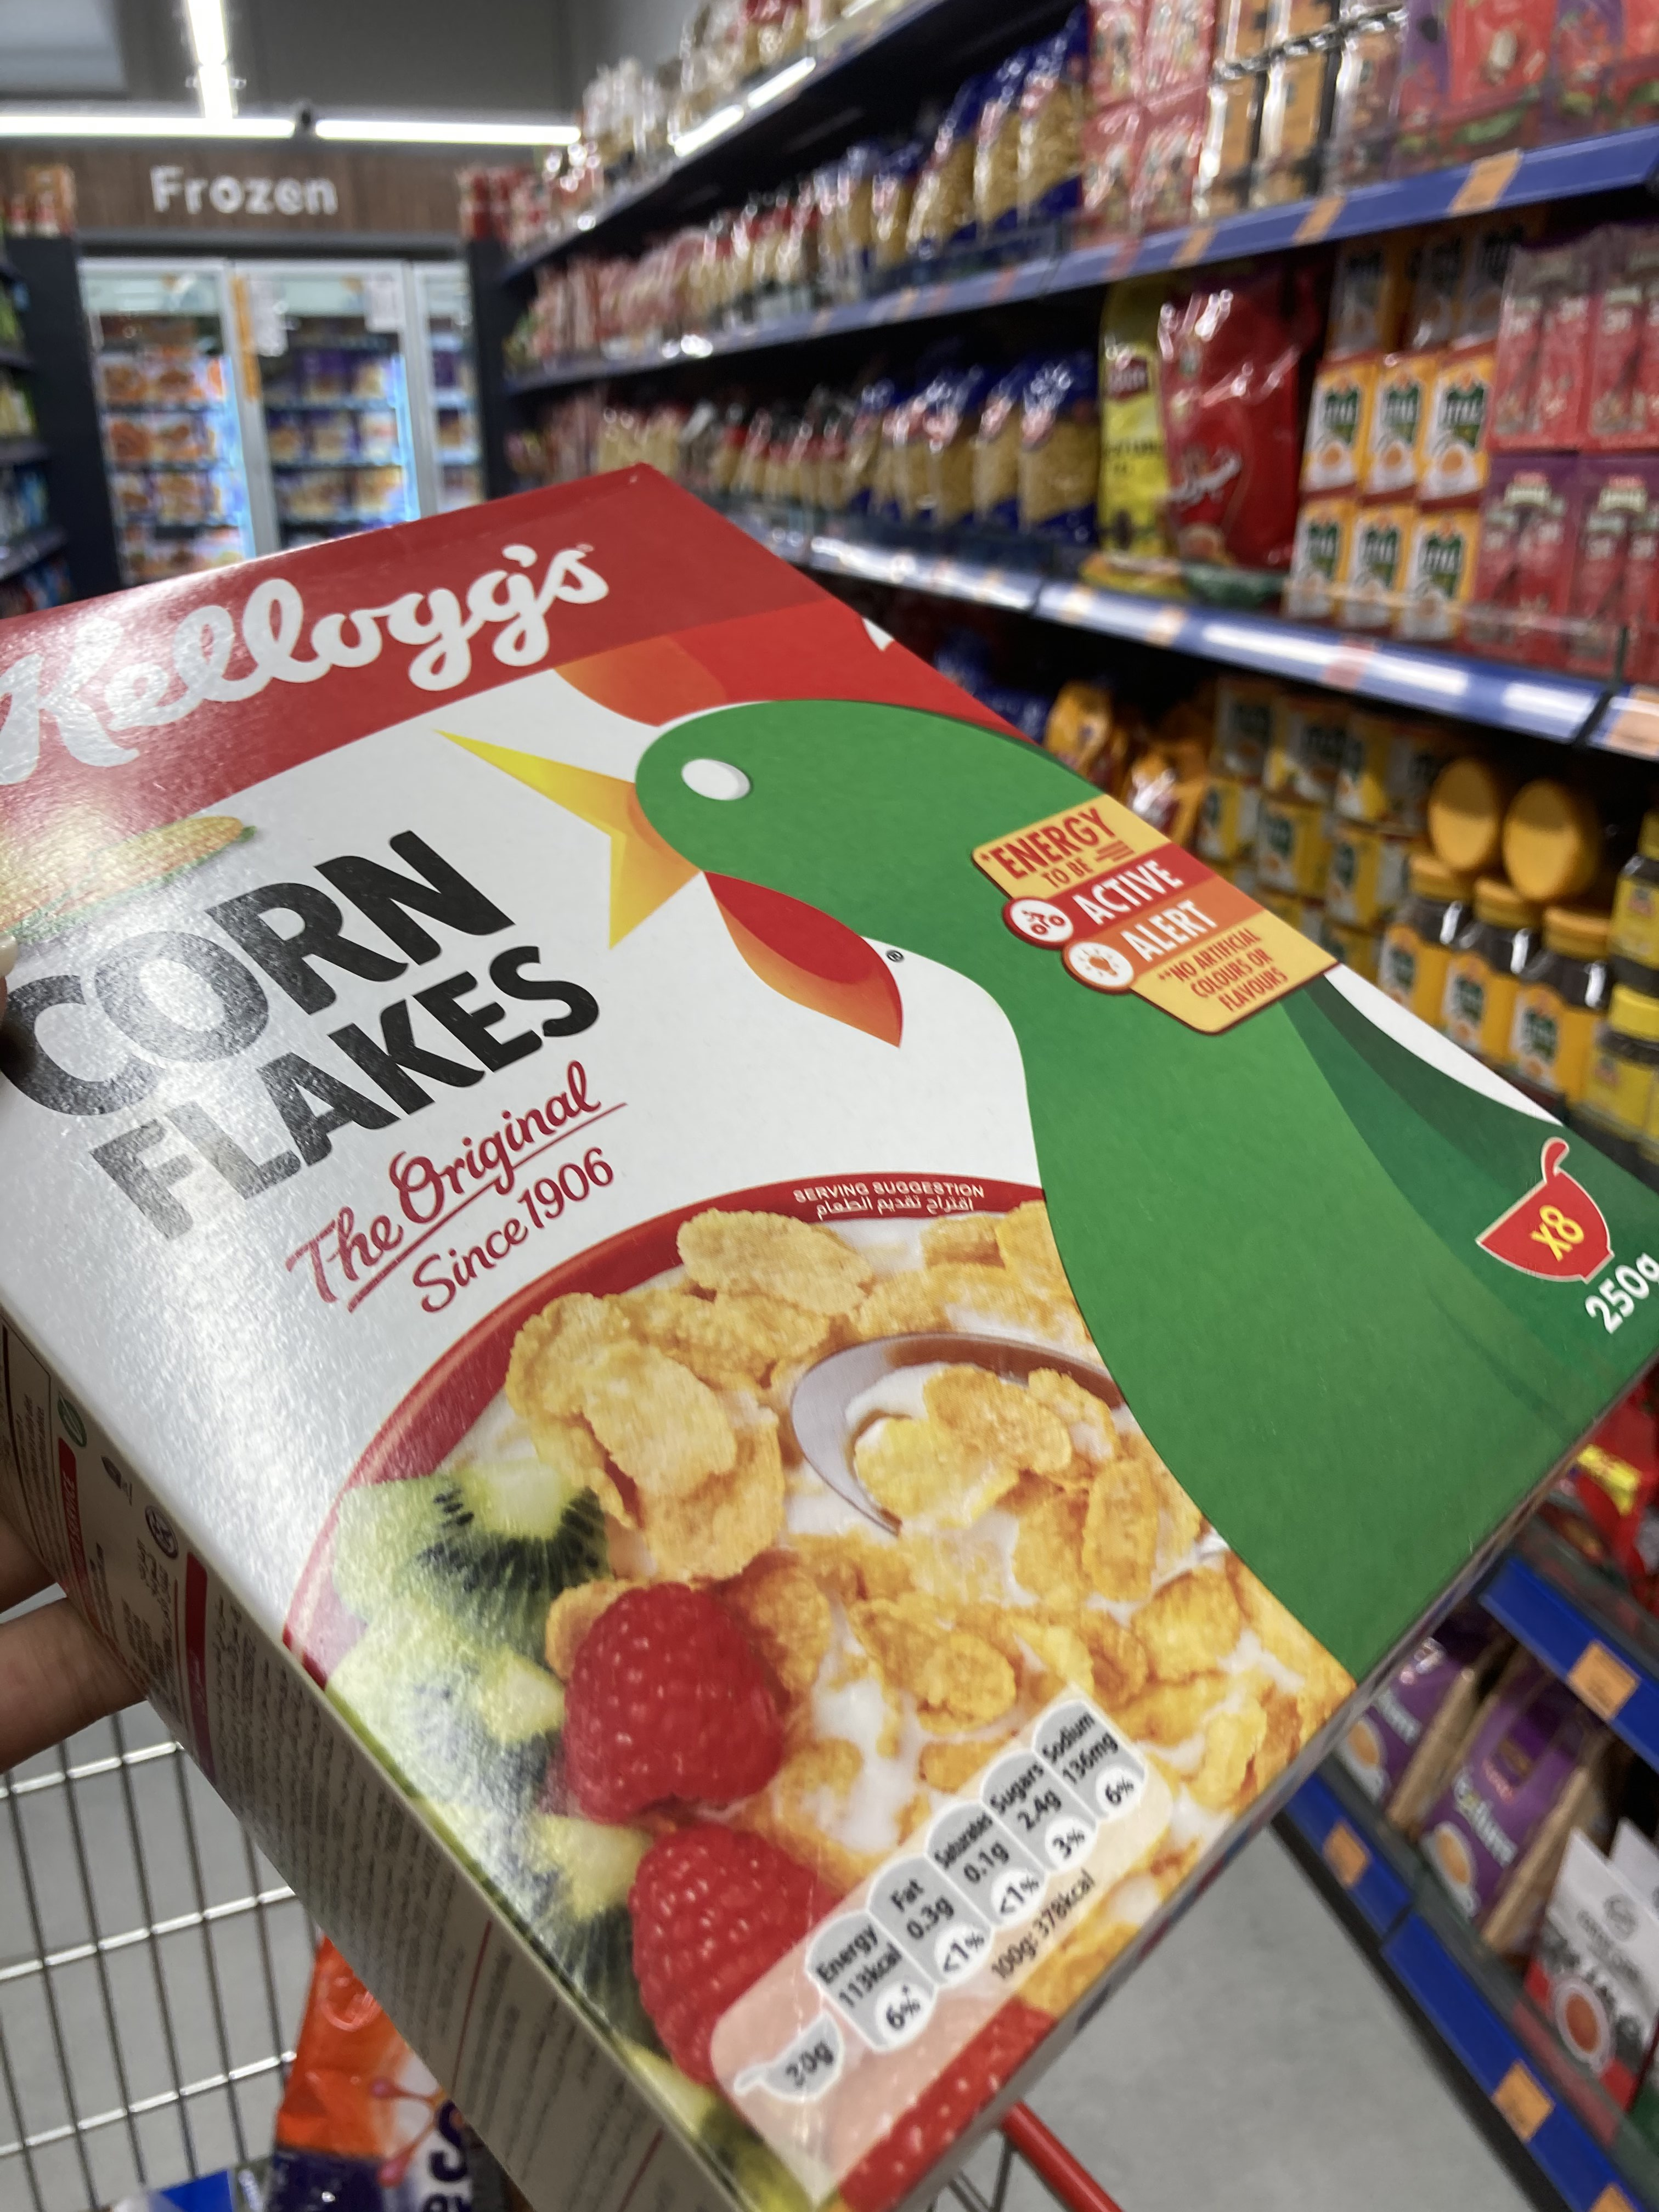Kellogg's Corn Flakes: (12, 462, 1659, 2207)
